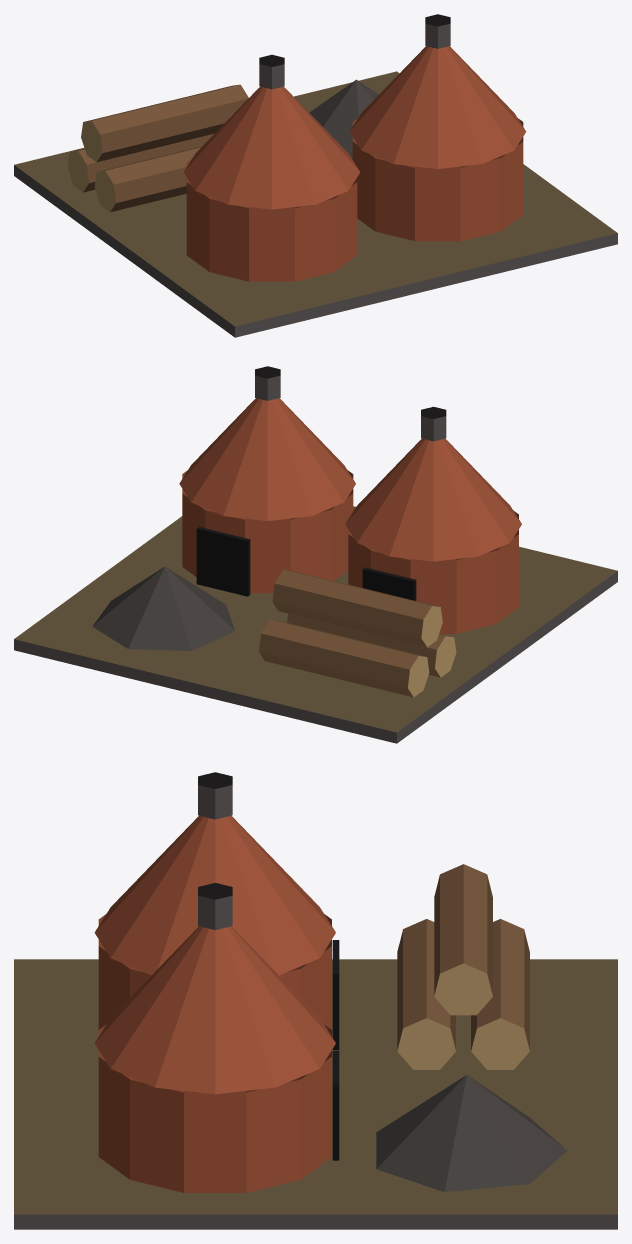
The model's file is charcoal_kiln.glb.
3 views of the same model, one above another, from view 1: azimuth 30°, elevation 25°; view 2: azimuth 150°, elevation 25°; view 3: azimuth 270°, elevation 25° (orthographic). The views are drawn at different scales.
Parts seen in each view (by area): view 1: charcoal_kiln; view 2: charcoal_kiln; view 3: charcoal_kiln.
Boxes of the visible parts, left/top/right/bottom form: charcoal_kiln: left=14, top=14, right=617, bottom=337; charcoal_kiln: left=14, top=366, right=617, bottom=743; charcoal_kiln: left=14, top=772, right=617, bottom=1229.
Size of the model in its own units: 1.8 by 0.88 by 1.8.
